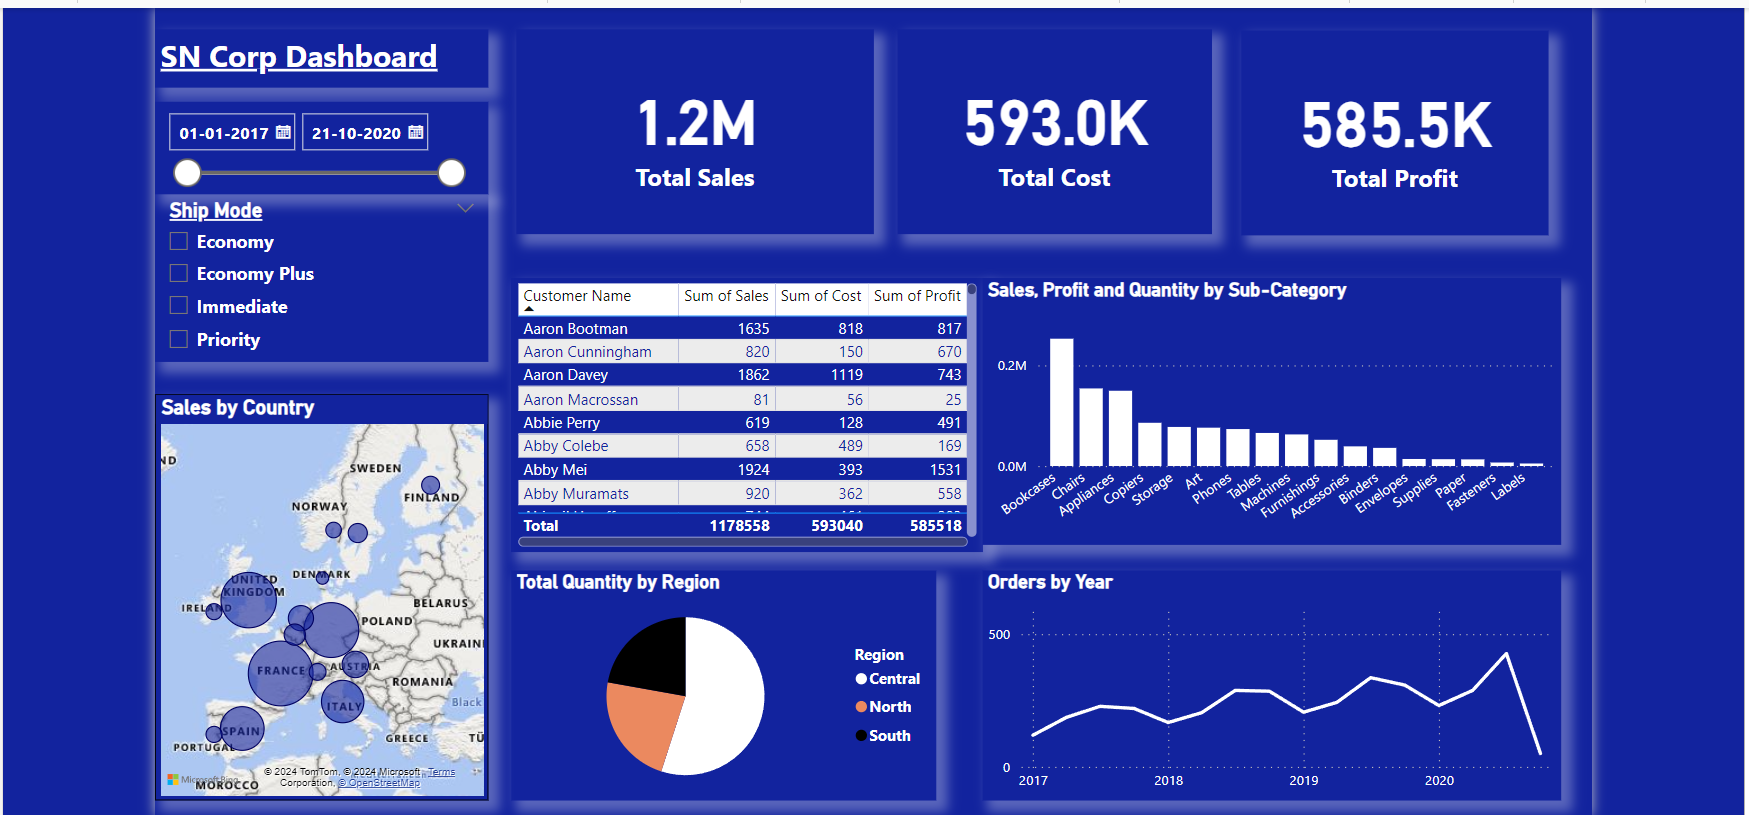

What the dashboard file says about the page in this screenshot:
{"tool":"powerbi","page":{"name":"Page 1","canvas":[1280,720],"ordinal":0},"visuals":[{"type":"card","fields":{"Values":["List of Orders.Sales"]},"box":[322,19.3,318.4,182.1],"z":0},{"type":"card","fields":{"Values":["List of Orders.Cost"]},"box":[660.9,19.3,279.8,182.1],"z":1000},{"type":"card","fields":{"Values":["List of Orders.Profit"]},"box":[967.2,20.5,273.8,182.1],"z":2000},{"type":"tableEx","fields":{"Values":["List of Orders.Customer Name","List of Orders.Sales","List of Orders.Cost","List of Orders.Profit"]},"box":[317.4,240.7,419.8,244.2],"z":3000},{"type":"clusteredColumnChart","title":"Sales, Profit and Quantity by Sub-Category","fields":{"Category":["List of Orders.Sub-Category"],"Y":["List of Orders.Sales"]},"box":[736.9,240,515,237.6],"z":4000},{"type":"lineChart","title":"Orders by Year ","fields":{"Y":["List of Orders.Order ID"],"Category":["List of Orders.Order Date.Variation.Date Hierarchy.Year","List of Orders.Order Date.Variation.Date Hierarchy.Quarter"]},"box":[736.9,500.5,515,205],"z":5000},{"type":"pieChart","title":"Total Quantity by Region","fields":{"Category":["List of Orders.Region"],"Y":["List of Orders.Quantity"]},"box":[317.2,500.5,378.7,205],"z":6000},{"type":"textbox","box":[0,19.3,296.7,51.9],"z":7000},{"type":"slicer","fields":{"Values":["List of Orders.Ship Mode"]},"box":[0,165.2,296.7,150.8],"z":8000},{"type":"slicer","fields":{"Values":["List of Orders.Order Date"]},"box":[0,83.2,296.7,82],"z":9000},{"type":"map","title":"Sales by Country","fields":{"Category":["List of Orders.Country"],"Size":["List of Orders.Sales"]},"box":[0,343.7,296.7,361.8],"z":10000}]}

Visuals, with their boxes on the page's 1280x720 design canvas (x1, y1, x2, y2). These are canvas units, not pixel positions in the 1749x815 screenshot, which may show the page scaled, cropped or inside an application window:
card - List of Orders.Sales: {"left": 322, "top": 19, "right": 640, "bottom": 201}
card - List of Orders.Cost: {"left": 661, "top": 19, "right": 941, "bottom": 201}
card - List of Orders.Profit: {"left": 967, "top": 20, "right": 1241, "bottom": 203}
tableEx - List of Orders.Customer Name x List of Orders.Sales: {"left": 317, "top": 241, "right": 737, "bottom": 485}
"Sales, Profit and Quantity by Sub-Category" clusteredColumnChart: {"left": 737, "top": 240, "right": 1252, "bottom": 478}
"Orders by Year " lineChart: {"left": 737, "top": 500, "right": 1252, "bottom": 706}
"Total Quantity by Region" pieChart: {"left": 317, "top": 500, "right": 696, "bottom": 706}
textbox: {"left": 0, "top": 19, "right": 297, "bottom": 71}
slicer - List of Orders.Ship Mode: {"left": 0, "top": 165, "right": 297, "bottom": 316}
slicer - List of Orders.Order Date: {"left": 0, "top": 83, "right": 297, "bottom": 165}
"Sales by Country" map: {"left": 0, "top": 344, "right": 297, "bottom": 706}
